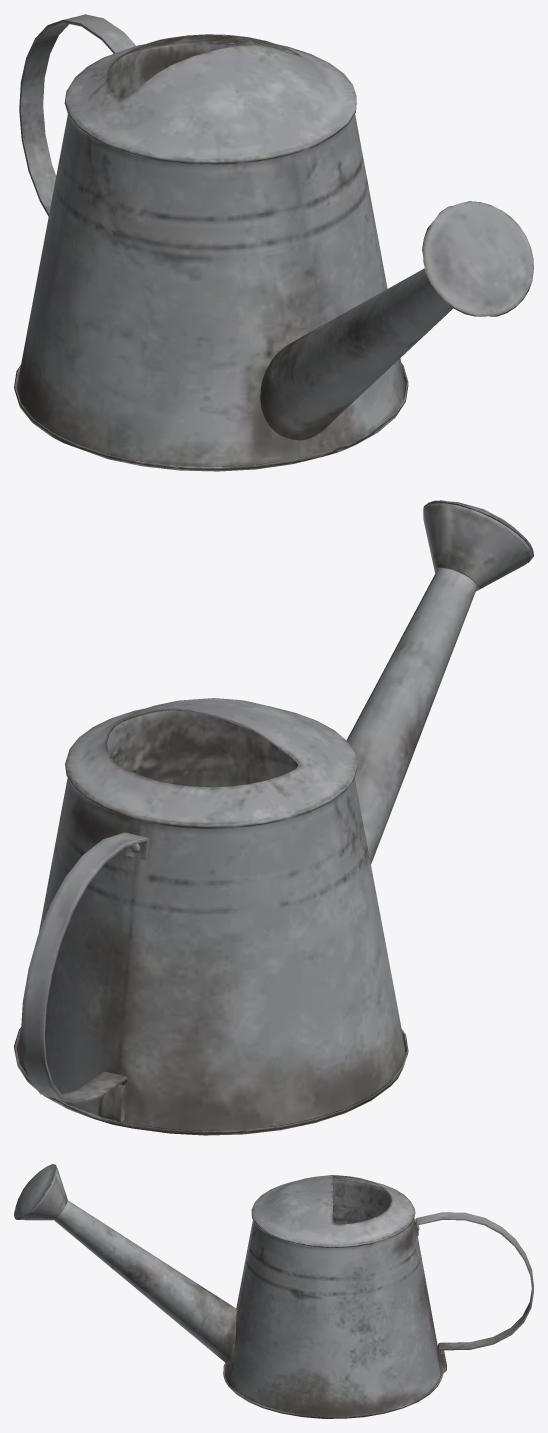
Rendered from ph-watering_can_metal_01.glb.
3 renders of one model, top to bottom at view 1: azimuth 30°, elevation 25°; view 2: azimuth 150°, elevation 25°; view 3: azimuth 270°, elevation 25°, orthographic. The views are drawn at different scales.
Parts seen in each view (by area): view 1: watering_can_metal_01; view 2: watering_can_metal_01; view 3: watering_can_metal_01.
Part boxes in pixels (x1,y1,x2,y2): watering_can_metal_01: [14, 14, 533, 471]; watering_can_metal_01: [14, 500, 533, 1135]; watering_can_metal_01: [14, 1164, 533, 1418].
Bounding box in the file's own units: 0.1905 × 0.1965 × 0.4521.
1 material, 1 textured.
